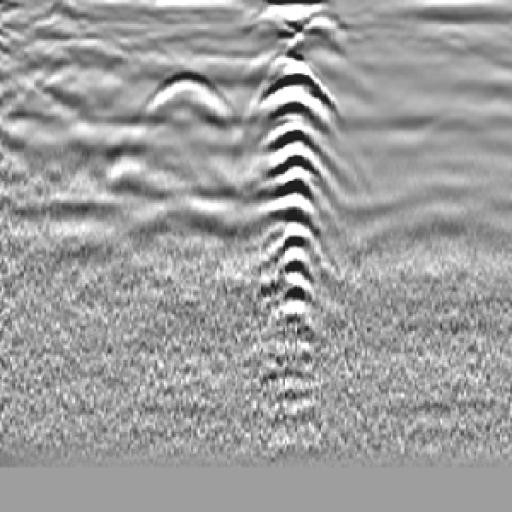metalic: (258, 19, 335, 367)
nonmetalic: (134, 64, 237, 163)
